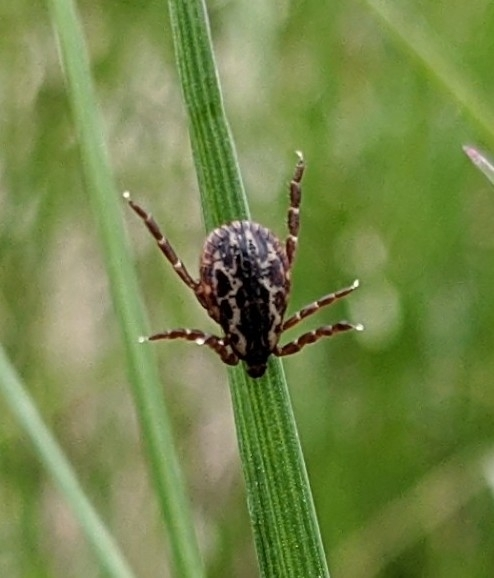garrapata: (113, 146, 369, 381)
